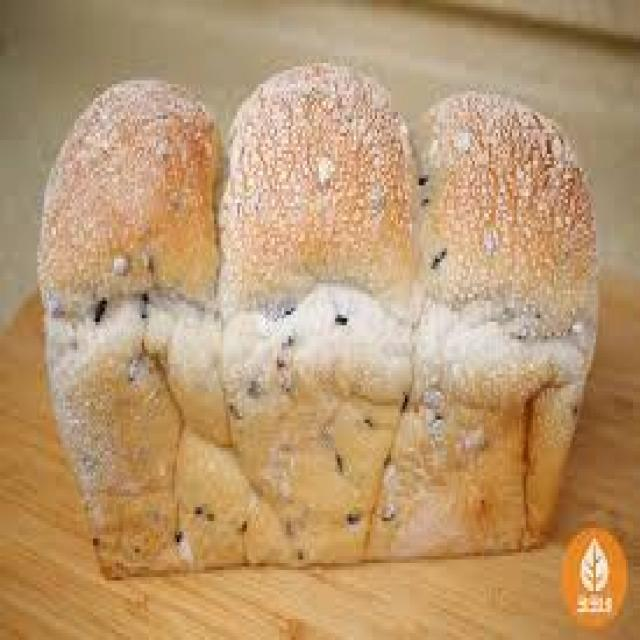mold_bread: (257, 295, 308, 402), (162, 499, 221, 555), (411, 382, 455, 456), (407, 170, 448, 210), (85, 286, 116, 333), (123, 351, 161, 386)
